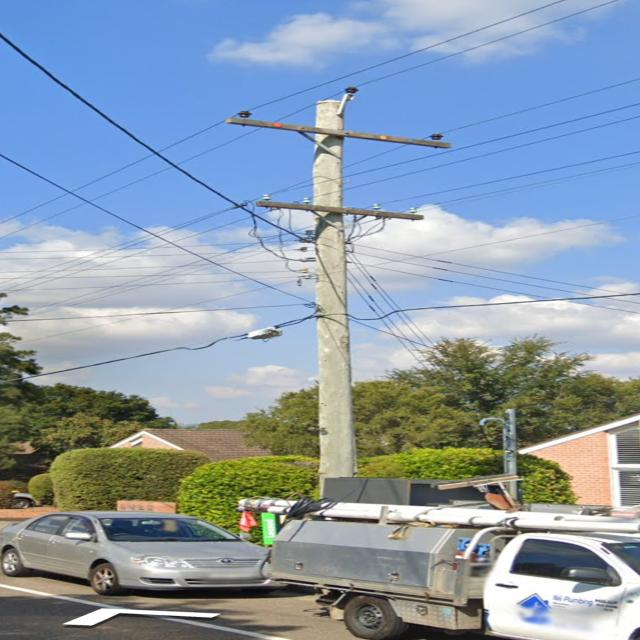HV-transmission: (228, 89, 448, 152)
crossarm: (223, 116, 448, 149), (255, 200, 422, 219)
streetlight: (248, 315, 316, 339)
timber-pole: (320, 101, 348, 486)
